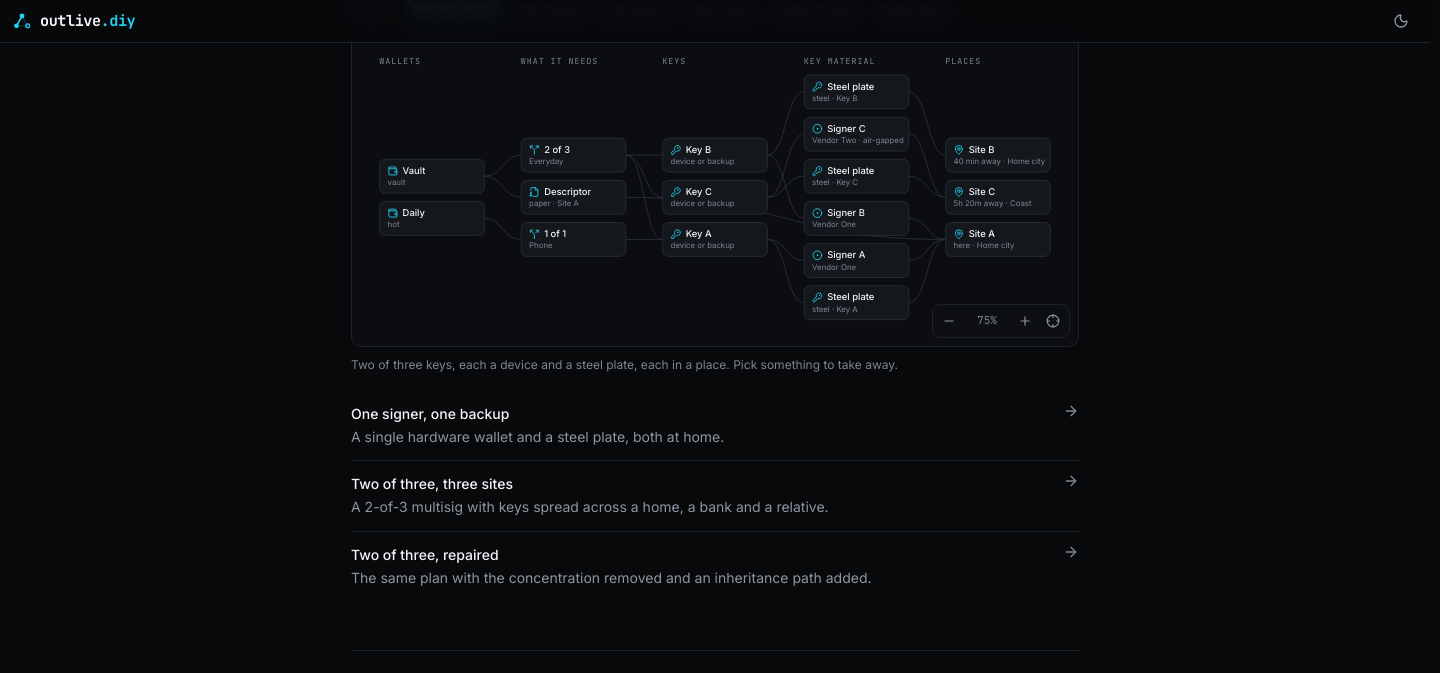
it: drafts › forks a plan and compares the findings
(page scrolled)
Click the text "Two of three, three sites": (432, 484) [351,475,513,492]
(page scrolled)
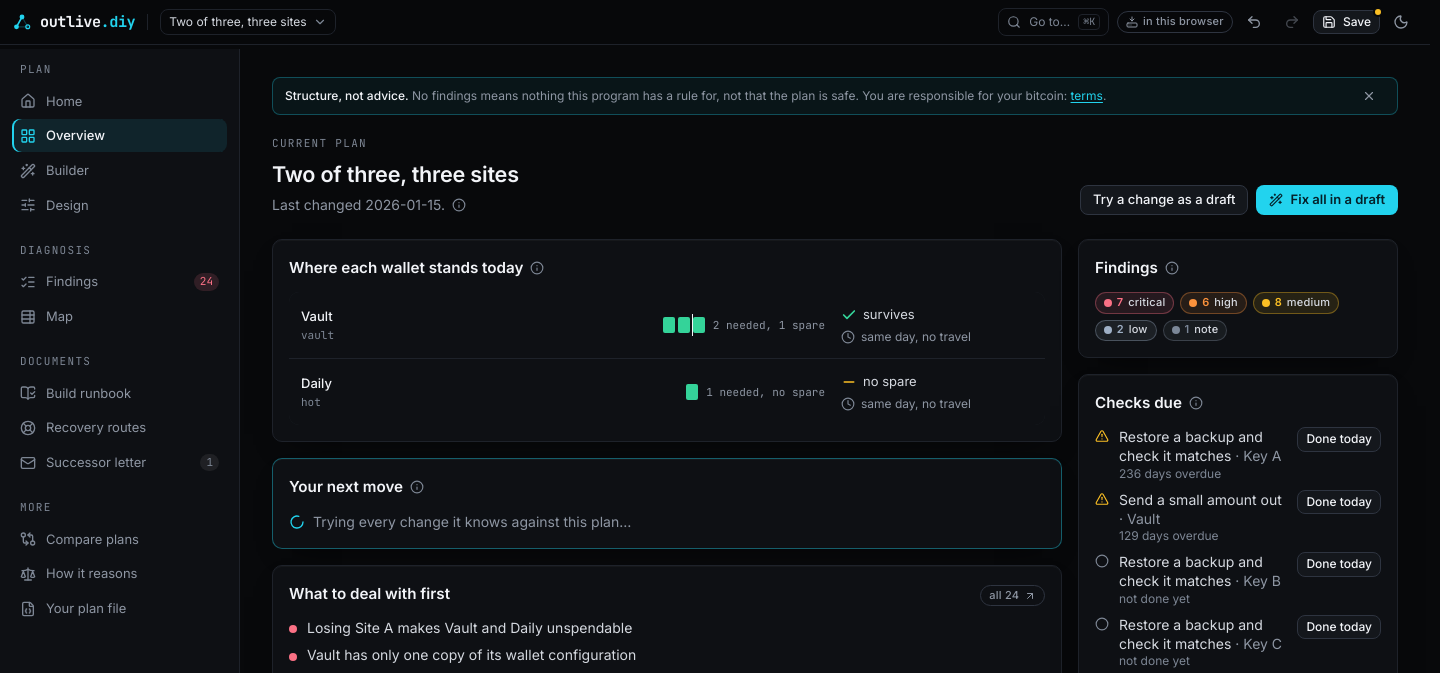
Click the button "Try a change as a draft": (1164, 200) [1080,185,1248,215]
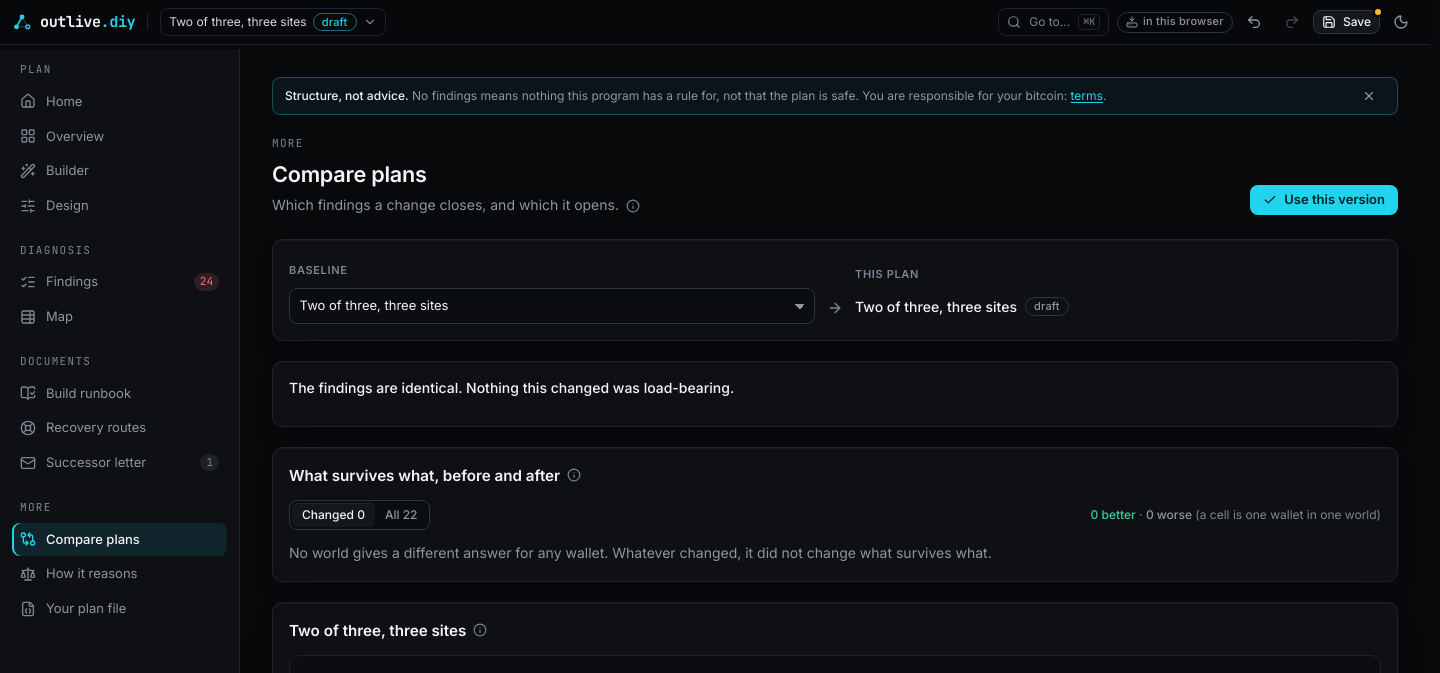
expect the text "The findings are identical" is shown: met, box [289,379,734,396]
expect the text "No world gives a different answer" is shown: met, box [289,544,992,561]
